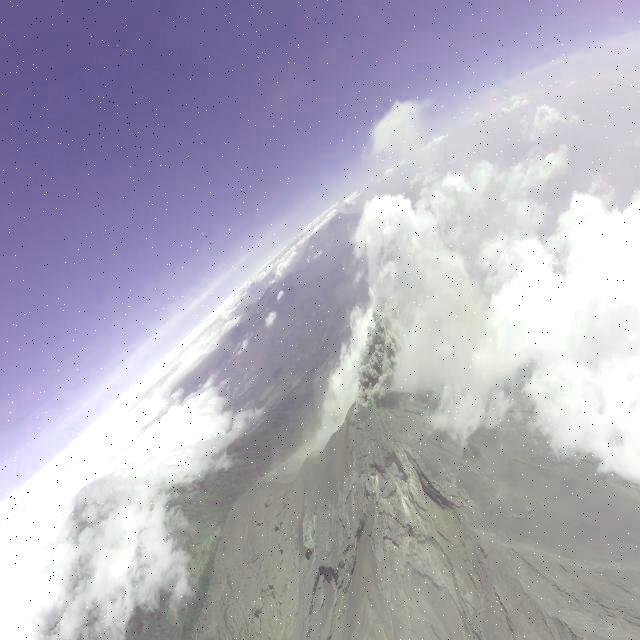Plume: (356, 294, 408, 403)
Summit: (300, 374, 488, 553)
